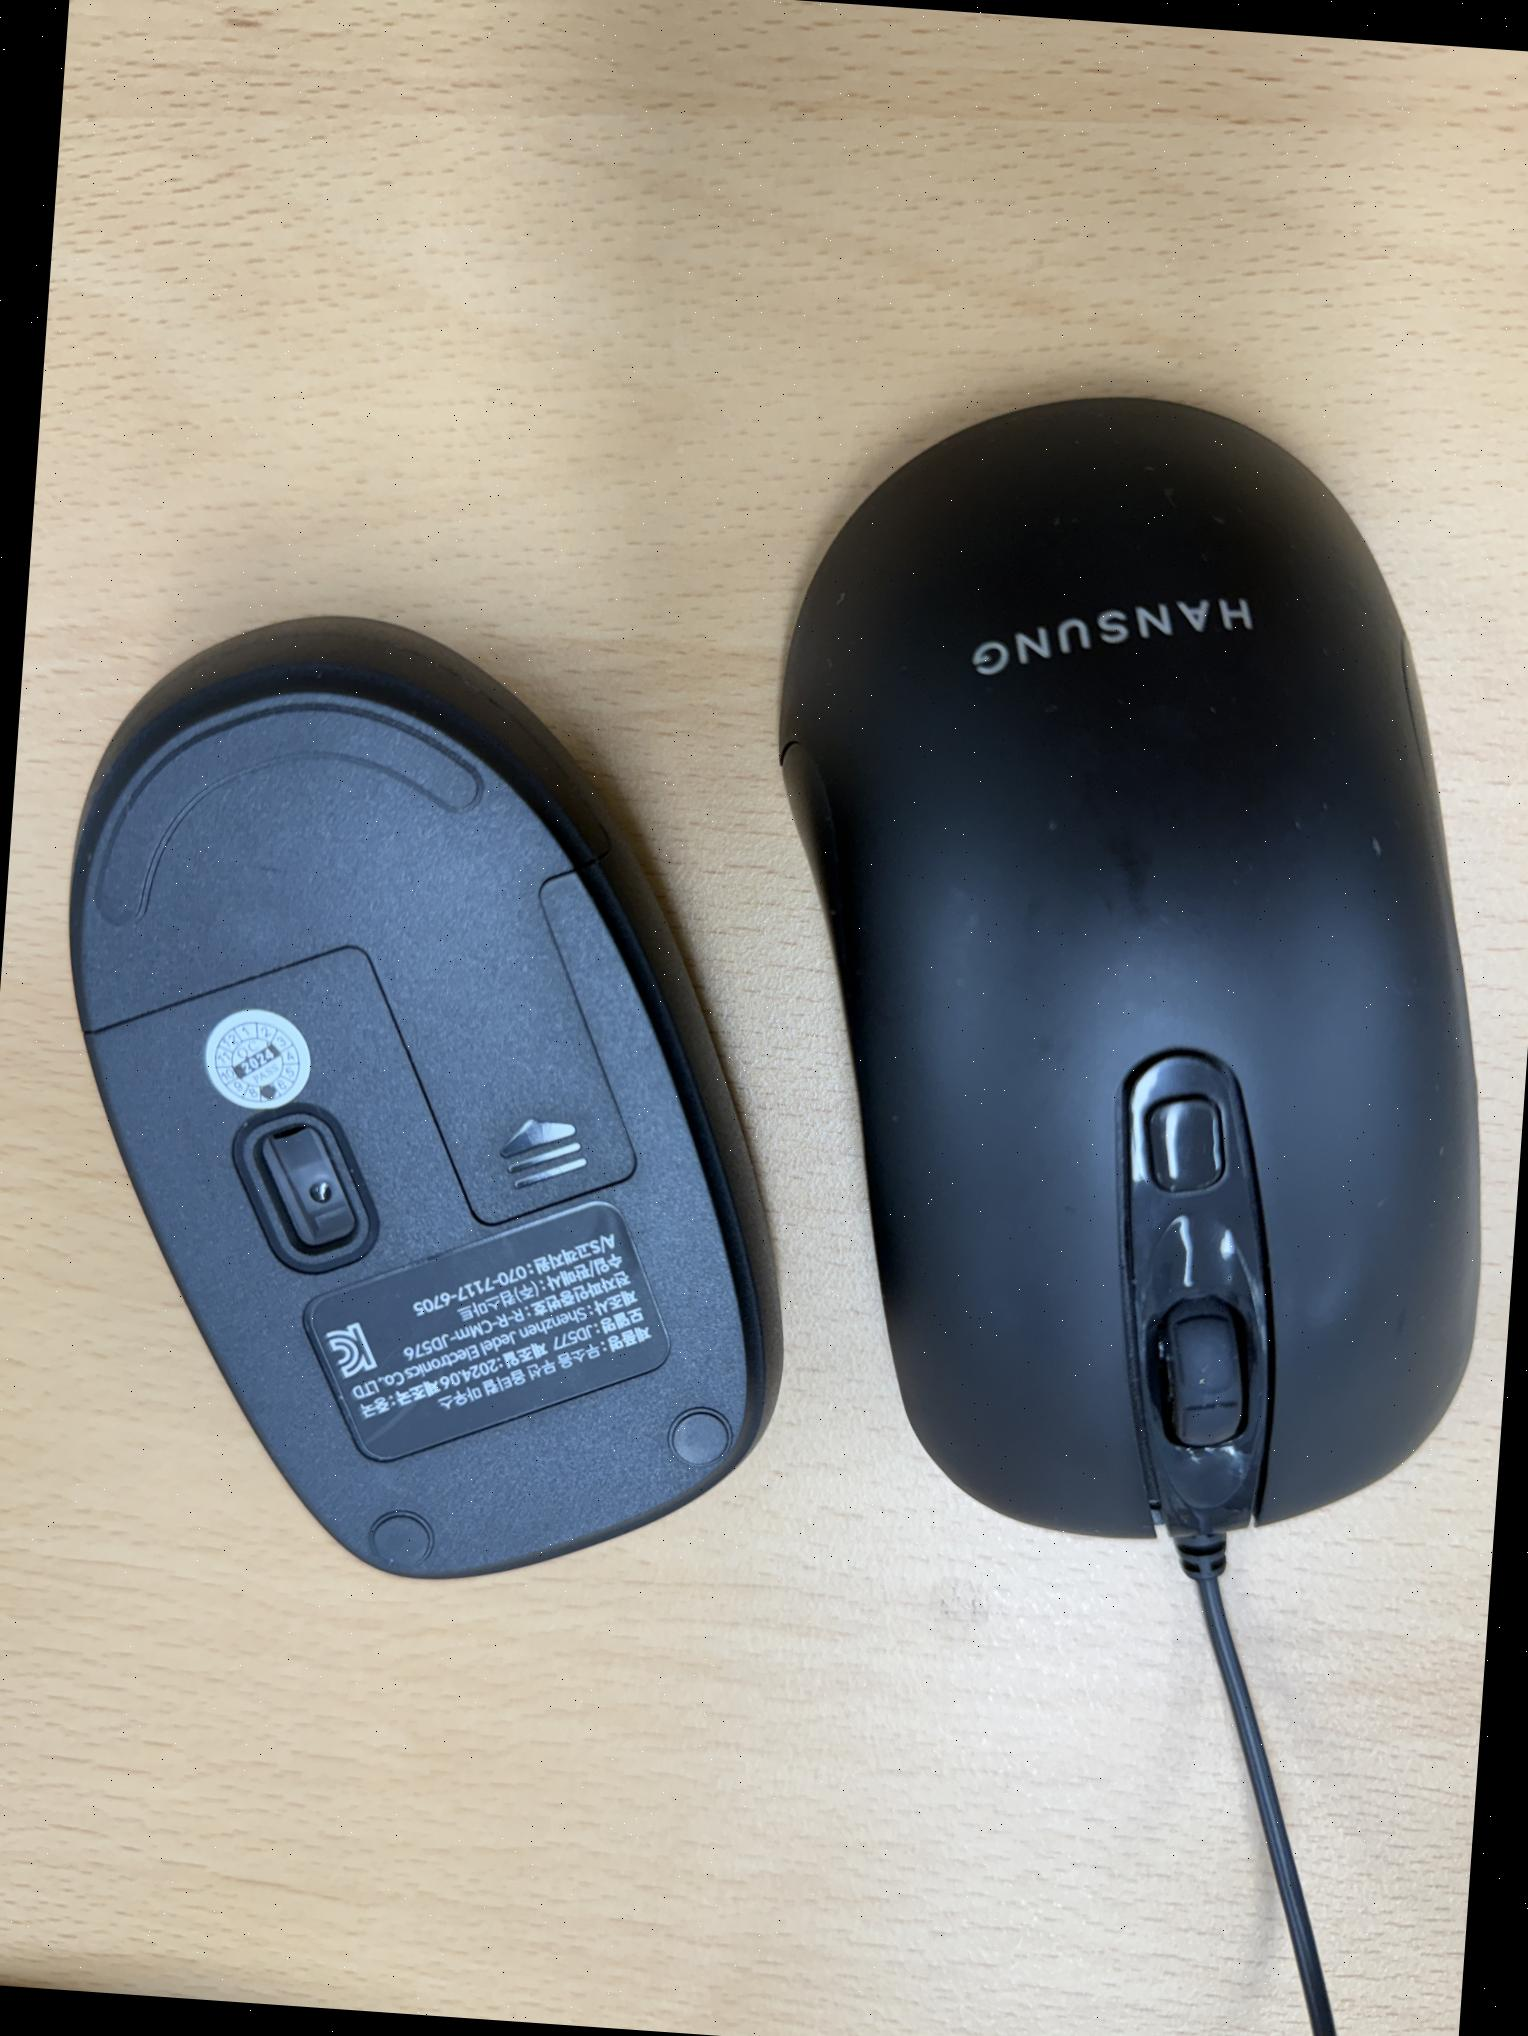back: (11, 590, 835, 1619)
front: (714, 342, 1528, 1579)
